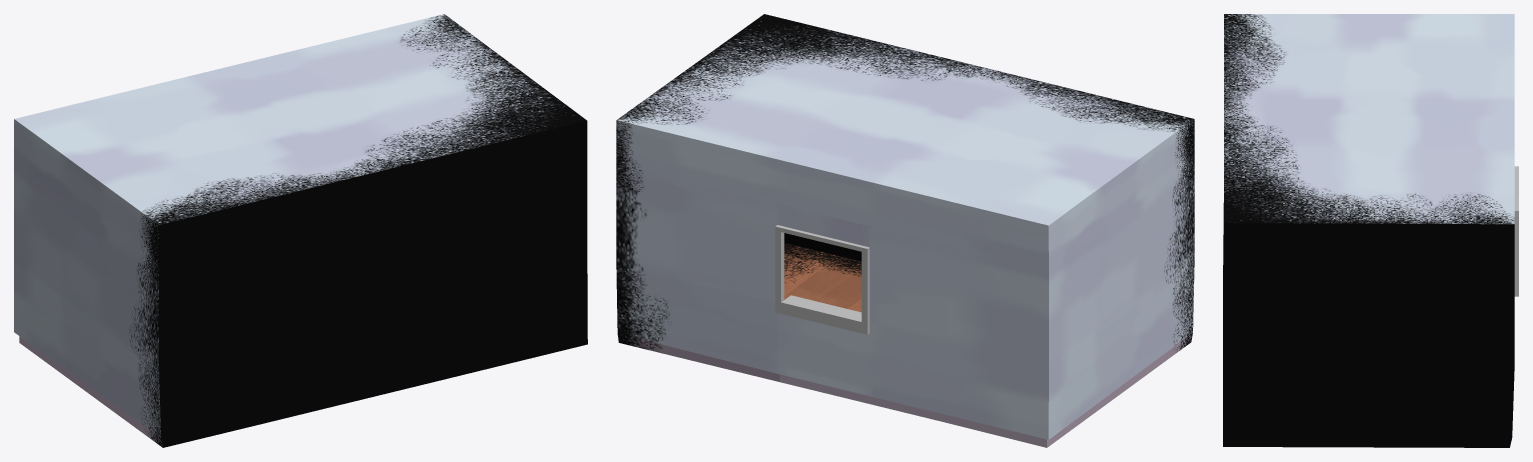
The model's file is quarter_room.fbx.
The picture shows the model from 3 angles, left to right: view 1: azimuth 30°, elevation 25°; view 2: azimuth 150°, elevation 25°; view 3: azimuth 270°, elevation 25°; orthographic projection.
Parts seen in each view (by area): view 1: main_room; view 2: main_room, window_sill; view 3: main_room, window_sill.
Boxes of the visible parts, x1,y1,x2,y2 form: main_room: [14, 14, 587, 447]; main_room: [616, 14, 1194, 447]; window_sill: [775, 225, 869, 334]; main_room: [1223, 14, 1514, 447]; window_sill: [1514, 166, 1518, 296].
Size of the model in its own units: 13.51 by 6.7 by 8.04.
